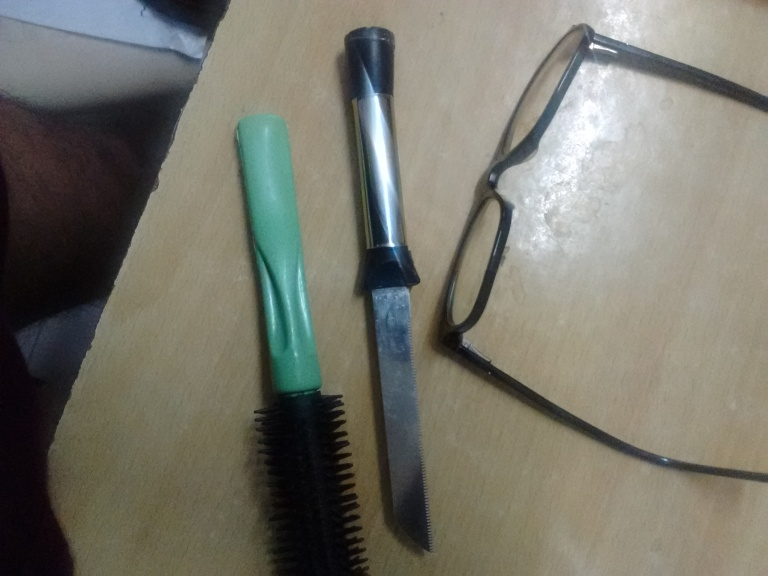knife: (344, 28, 435, 550)
